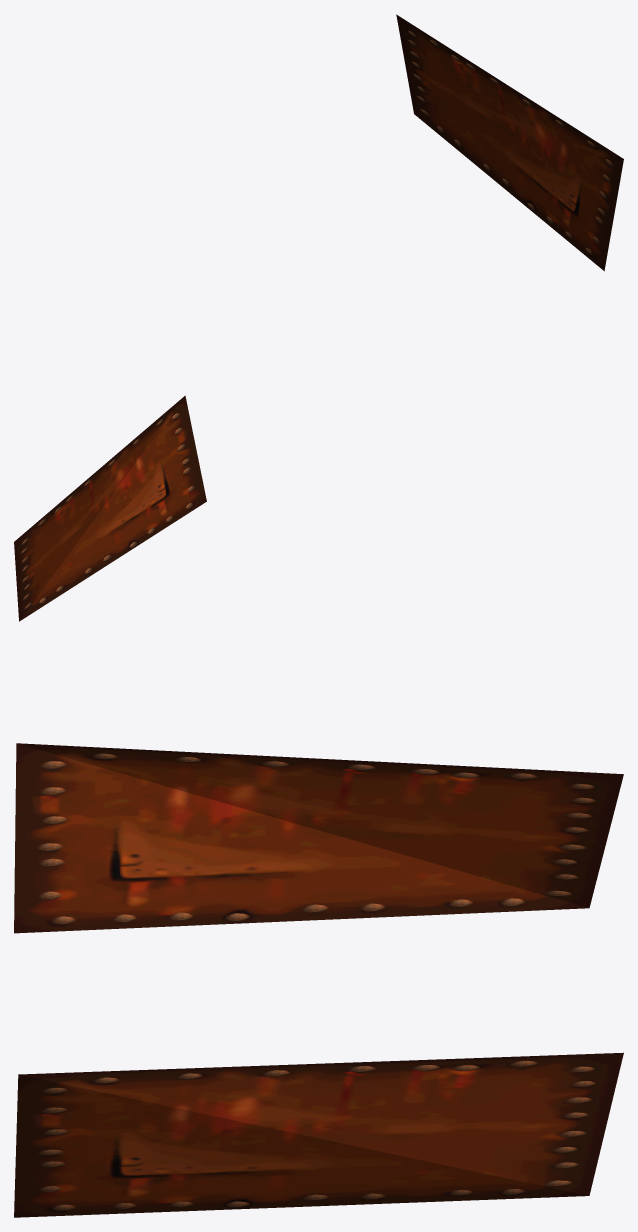
The model's file is Schiff_Mitte2_1254.glb.
The picture shows the model from 3 angles, top to bottom: view 1: azimuth 30°, elevation 25°; view 2: azimuth 150°, elevation 25°; view 3: azimuth 270°, elevation 25°; orthographic projection. The views are drawn at different scales.
Parts seen in each view (by area): view 1: pPlaneShape36; view 2: pPlaneShape36; view 3: pPlaneShape15, pPlaneShape36.
Part boxes in pixels (bbox=[...]): pPlaneShape36: bbox=[396, 14, 623, 271]; pPlaneShape36: bbox=[14, 395, 206, 621]; pPlaneShape15: bbox=[14, 743, 623, 933]; pPlaneShape36: bbox=[14, 1052, 623, 1217].
Bounding box in the file's own units: 2.37 × 0.5411 × 1.85.
Materials: 2 (2 with a texture image).
